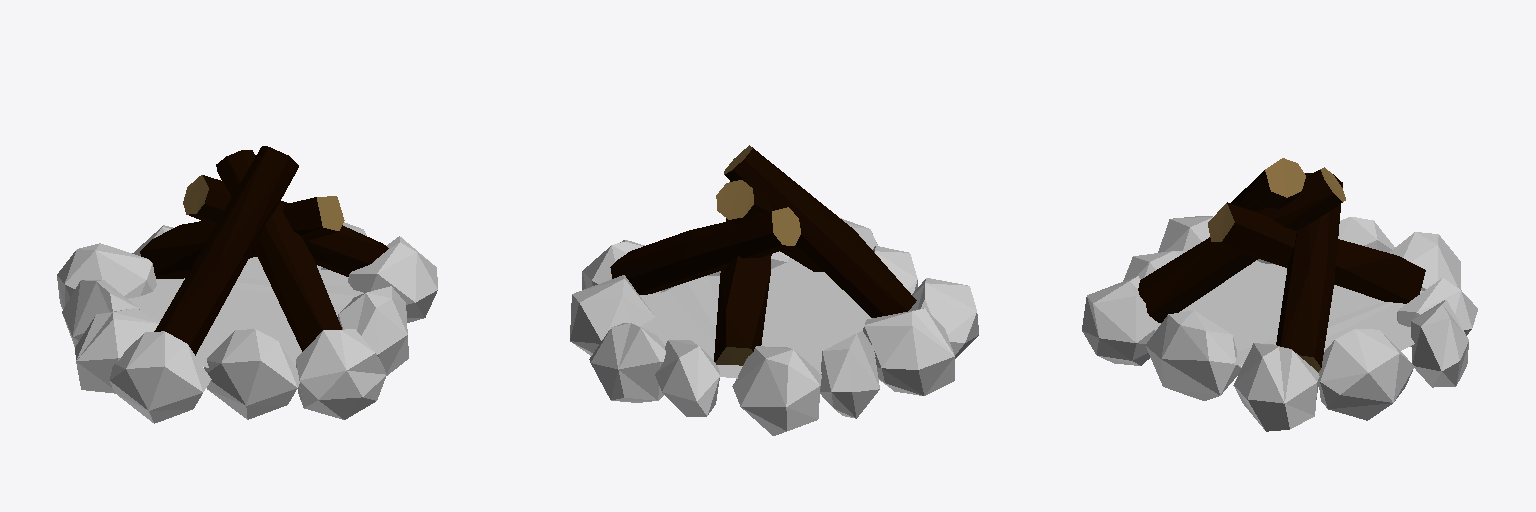
File: campfire.obj
The picture shows the model from 3 angles: view 1: azimuth 30°, elevation 25°; view 2: azimuth 150°, elevation 25°; view 3: azimuth 270°, elevation 25°; orthographic projection.
Parts seen in each view (by area): view 1: camp; view 2: camp; view 3: camp.
Part boxes in pixels (left/top/right/bottom): camp: left=57, top=146, right=437, bottom=423; camp: left=570, top=145, right=978, bottom=435; camp: left=1082, top=158, right=1477, bottom=431.
Bounding box in the file's own units: 1.56 × 0.8544 × 1.46.